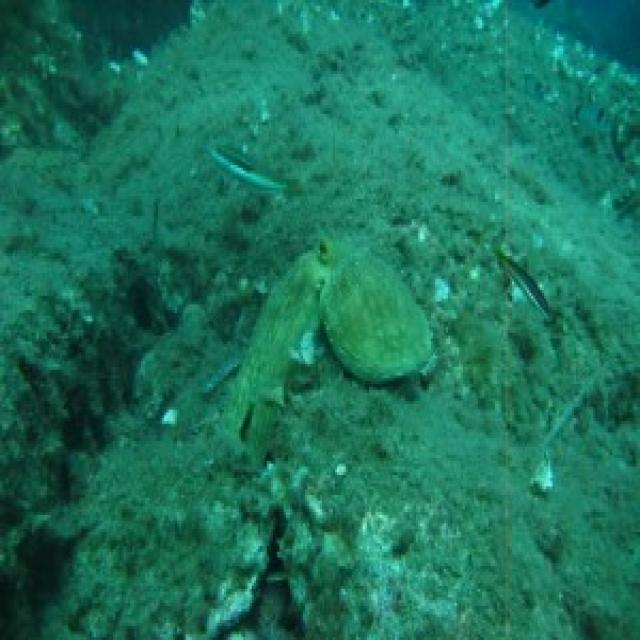Octo: (236, 237, 428, 472)
